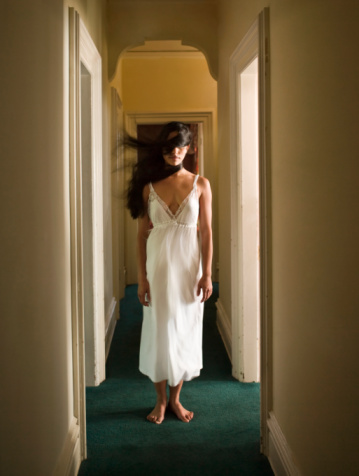em pe: (115, 103, 222, 420)
